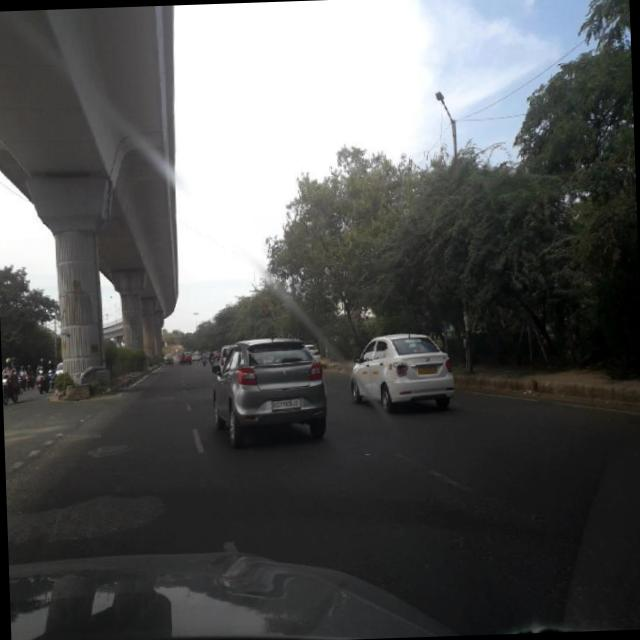crack: (410, 457, 640, 626)
